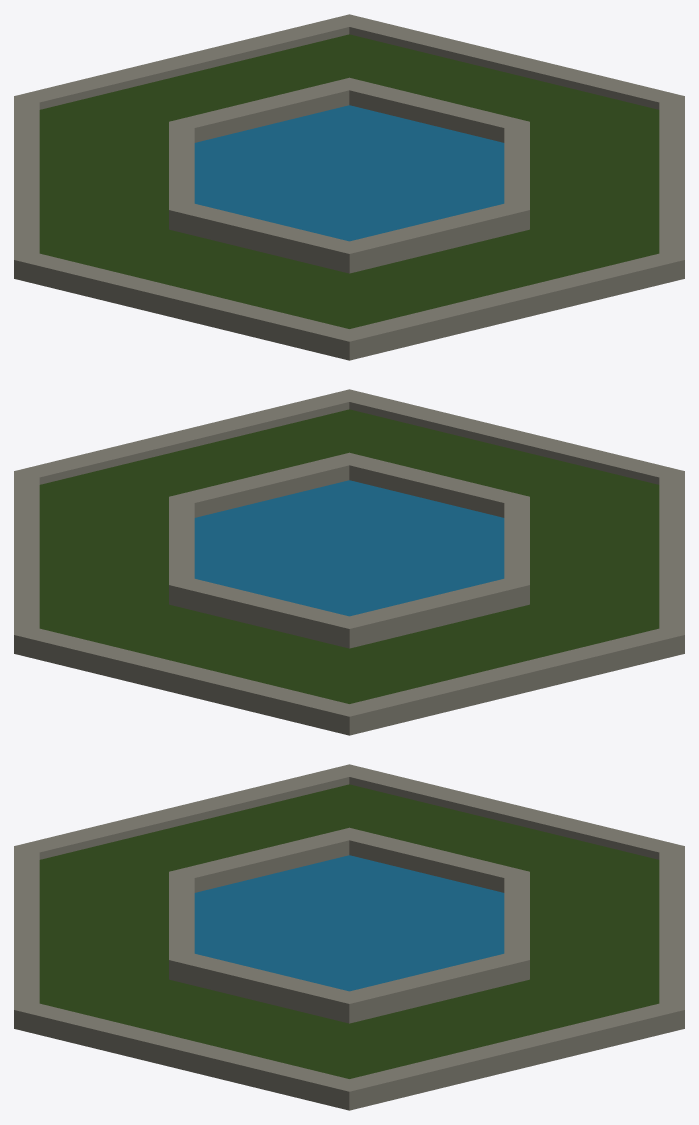
Rendered from plaza-pond.glb.
3 renders of one model, top to bottom at view 1: azimuth 30°, elevation 25°; view 2: azimuth 150°, elevation 25°; view 3: azimuth 270°, elevation 25°, orthographic.
Visible parts, largest first — view 1: plaza-pond; view 2: plaza-pond; view 3: plaza-pond.
Part boxes in pixels (<box>): plaza-pond: <box>14,14,684,360</box>; plaza-pond: <box>14,389,684,735</box>; plaza-pond: <box>14,764,684,1110</box>.
Bounding box in the file's own units: 52 × 2.3 × 45.03.
